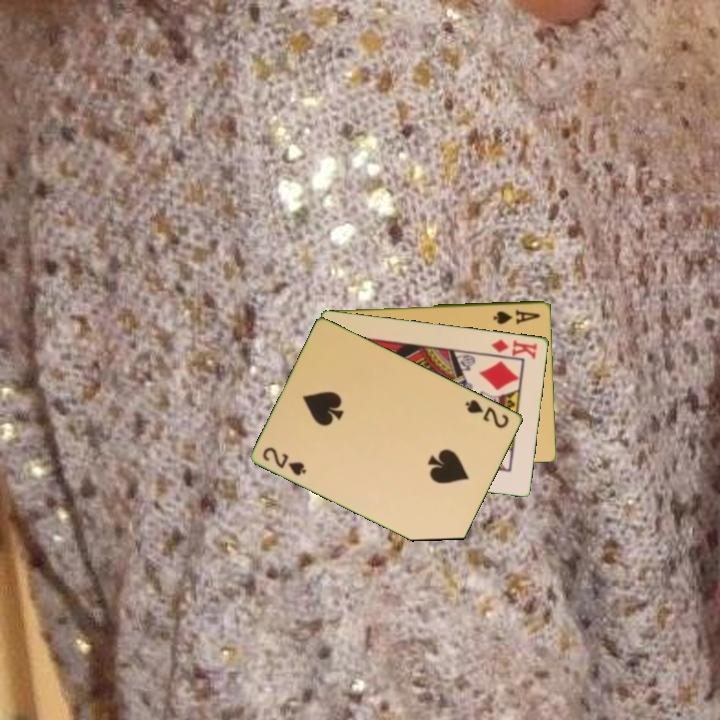2s: (259, 443, 310, 479), (462, 396, 512, 431)
As: (490, 306, 543, 327)
Kd: (488, 335, 540, 361)
